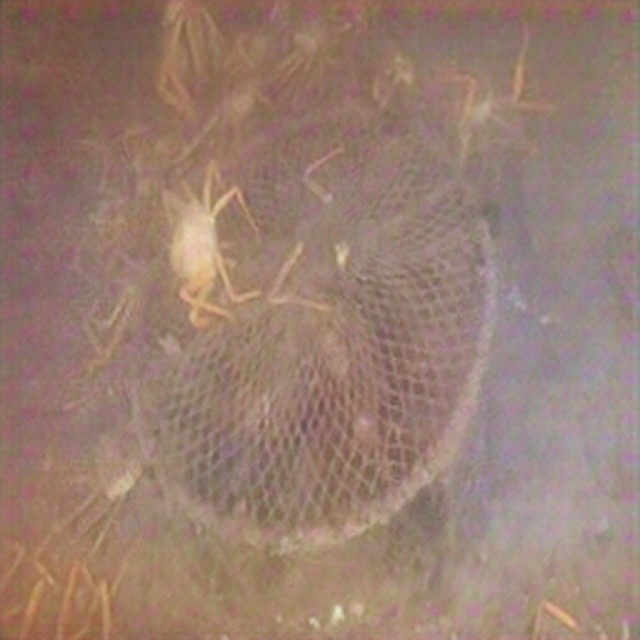mine: (125, 99, 497, 594)
